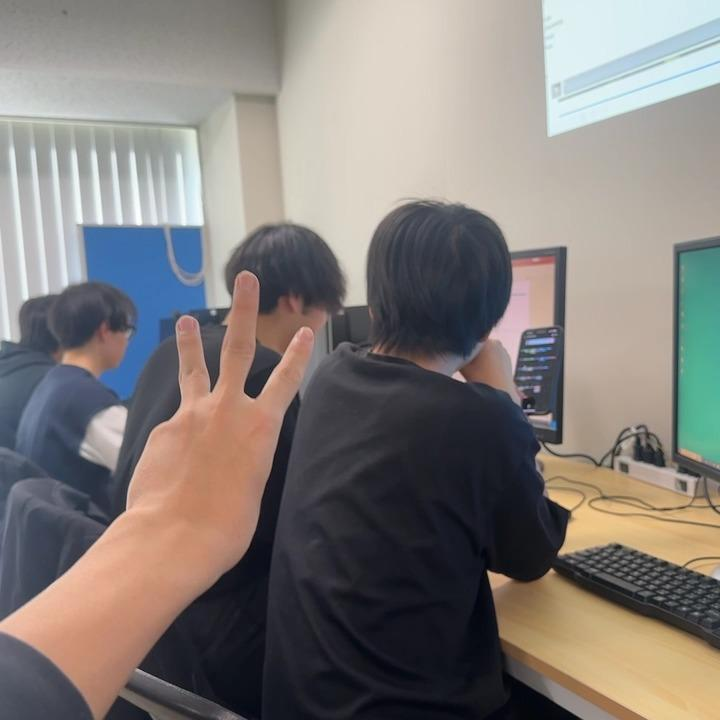without_gloves: (134, 260, 295, 537)
